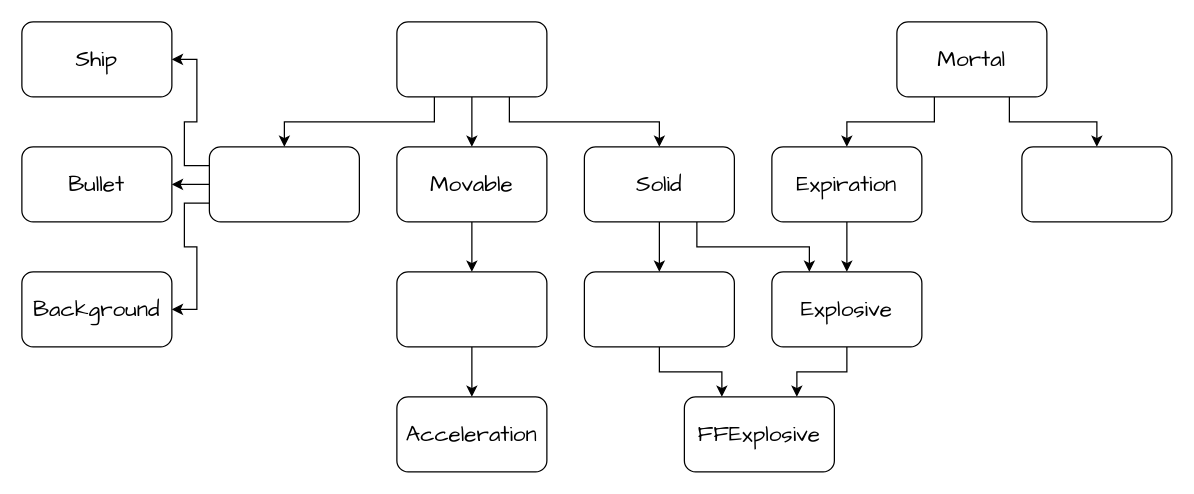
Some shapes in this 1194 by 494 pixel diagram are drawn without their labels. The shapes that lost their labels are listed below. From the top down, each one's centre as x and y in pixels, then its label:
(471,59): Corporeal
(283,184): Drawable
(1096,184): Health
(471,309): Velocity
(658,309): Allegiance
